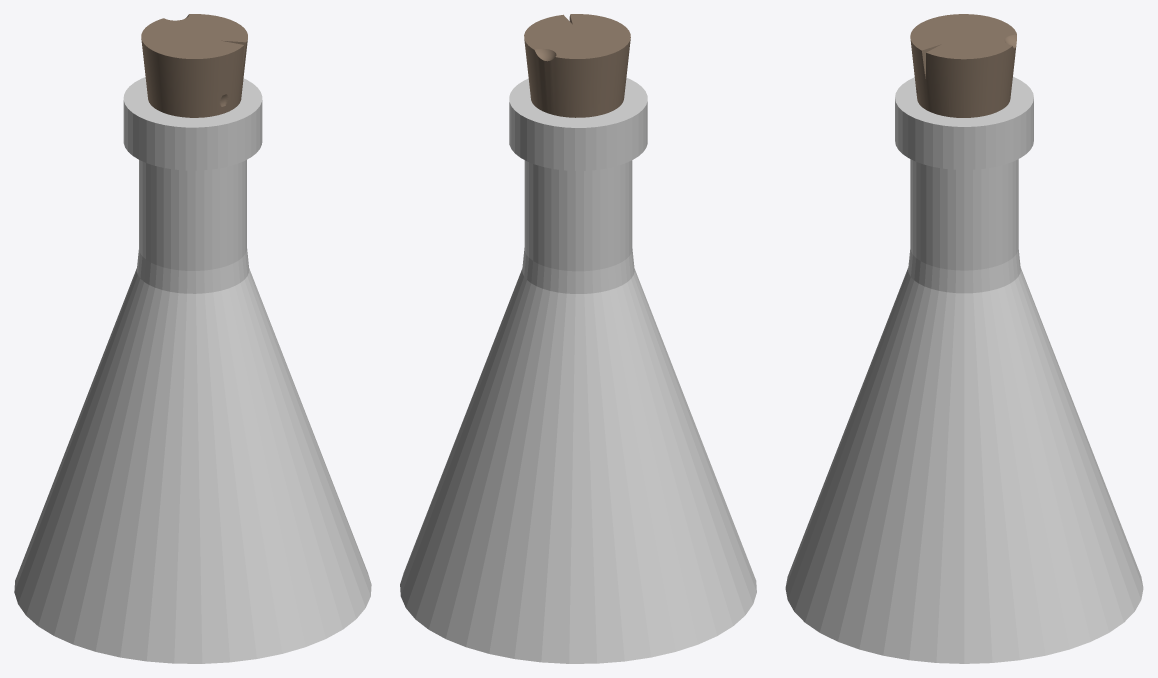
The model's file is Blue Potion.fbx.
3 renders of one model, left to right at view 1: azimuth 30°, elevation 25°; view 2: azimuth 150°, elevation 25°; view 3: azimuth 270°, elevation 25°, orthographic.
Visible parts, largest first — view 1: pCylinder20, polySurface186; view 2: pCylinder20, polySurface186; view 3: pCylinder20, polySurface186.
Part boxes in pixels (bbox=[...]): pCylinder20: bbox=[14, 77, 371, 663]; polySurface186: bbox=[141, 14, 247, 117]; pCylinder20: bbox=[400, 77, 756, 663]; polySurface186: bbox=[524, 14, 630, 117]; pCylinder20: bbox=[785, 76, 1143, 663]; polySurface186: bbox=[910, 14, 1016, 117].
Size of the model in its own units: 2 by 3.4 by 2.
